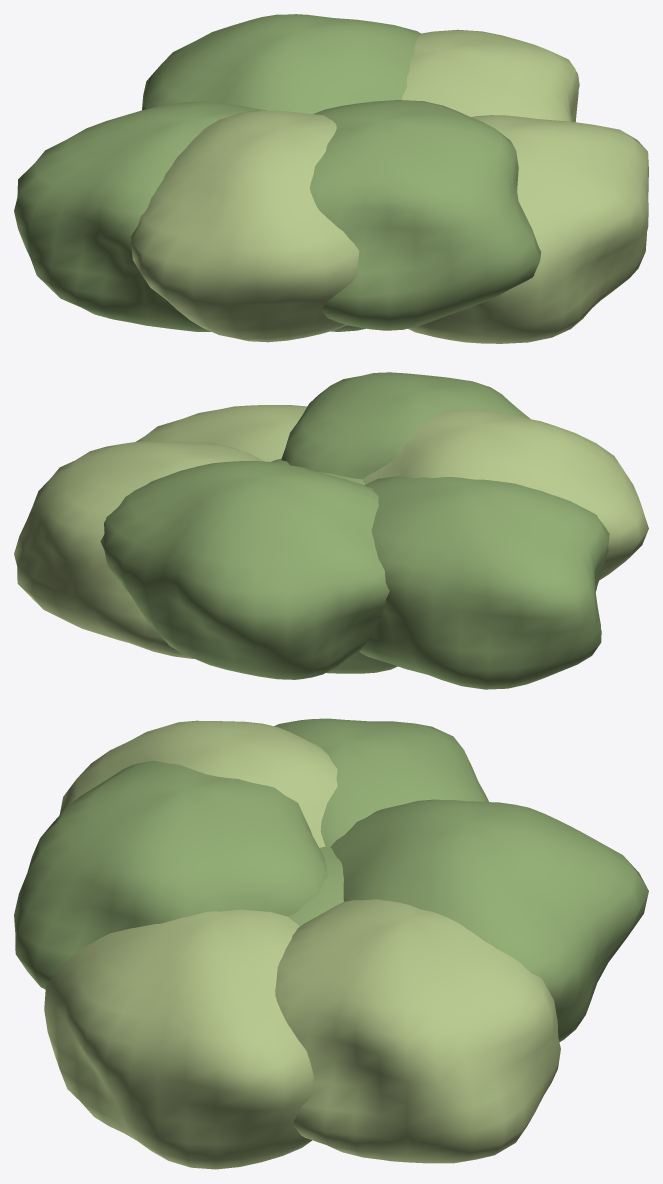
Rendered from dioshrub.glb.
3 views of the same model, one above another, from view 1: azimuth 30°, elevation 25°; view 2: azimuth 150°, elevation 25°; view 3: azimuth 270°, elevation 25° (orthographic). The views are drawn at different scales.
Visible parts, largest first — view 1: DioShrub_DioLeaf, DioShrub_DioLeafLight; view 2: DioShrub_DioLeaf, DioShrub_DioLeafLight; view 3: DioShrub_DioLeafLight, DioShrub_DioLeaf.
Boxes of the visible parts, box(x1,y1,x2,y2) form: DioShrub_DioLeaf: box(14, 14, 541, 331); DioShrub_DioLeafLight: box(130, 29, 648, 343); DioShrub_DioLeaf: box(100, 372, 609, 689); DioShrub_DioLeafLight: box(14, 405, 648, 658); DioShrub_DioLeafLight: box(44, 720, 560, 1169); DioShrub_DioLeaf: box(14, 718, 648, 1041).
Size of the model in its own units: 2.24 by 0.9101 by 1.89.
